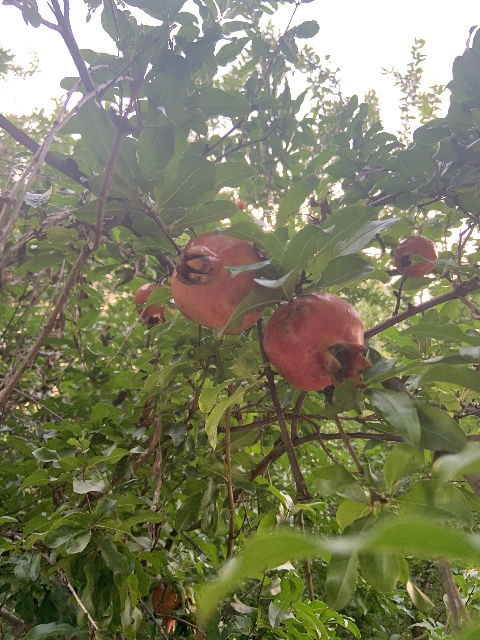ripe: (263, 291, 371, 390), (171, 226, 268, 334), (392, 235, 437, 278), (135, 283, 173, 330), (151, 582, 181, 634)
